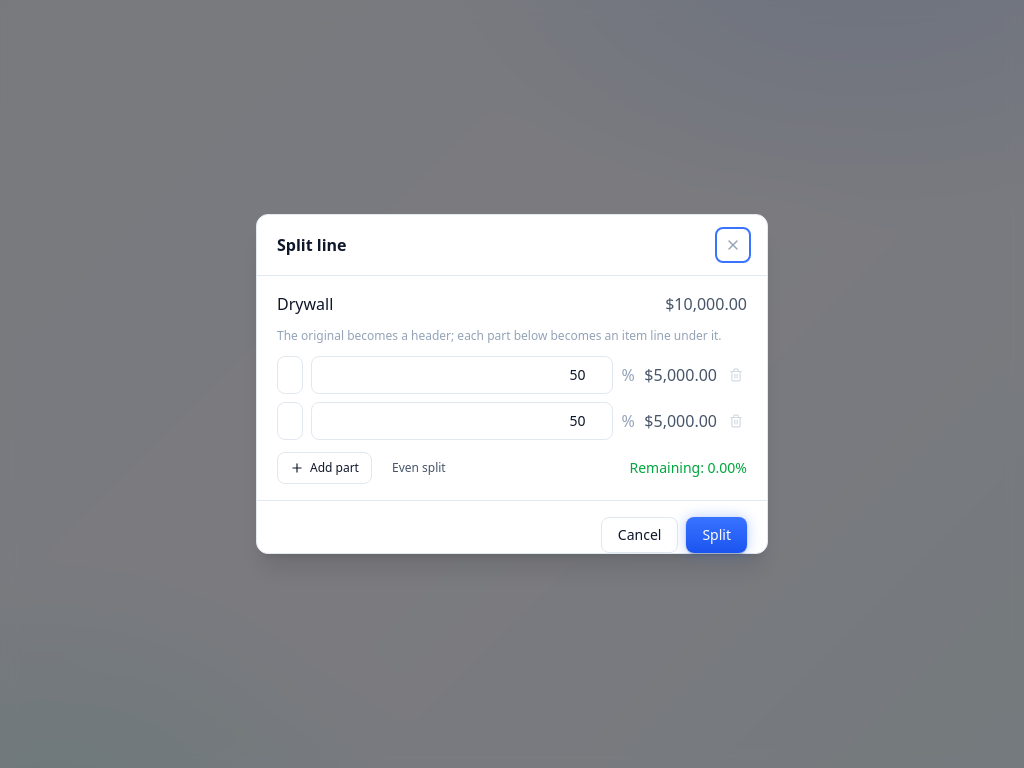
Test: SplitSovLineModal › blocks submit when a description is empty
Clear the field with test id "split-part-description" at (290, 375), box [277,356,303,394]
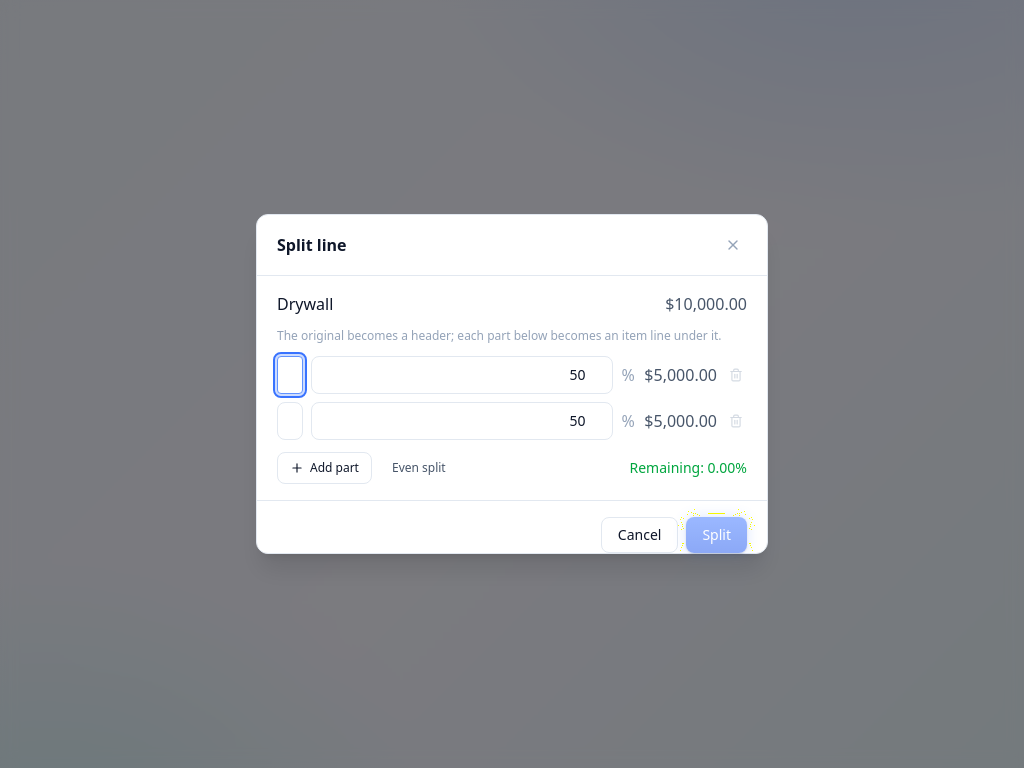
Result: the button with test id "split-submit" is disabled at [686,517,747,553]
